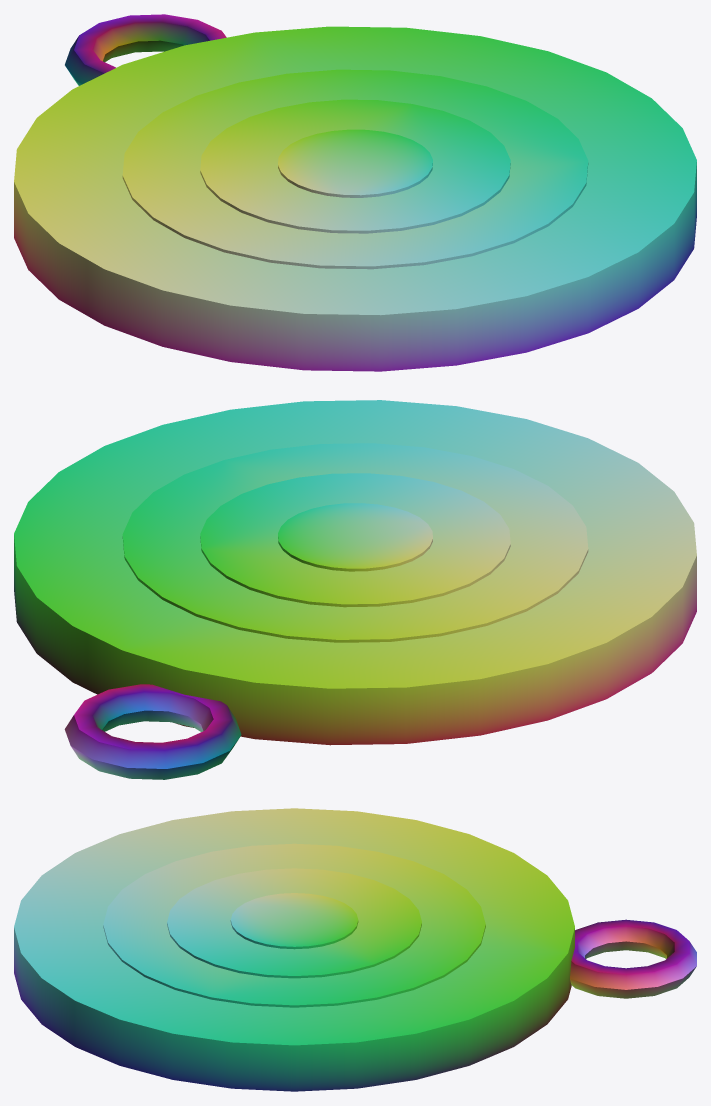
The model's file is nazar_charm.fbx.
The picture shows the model from 3 angles, top to bottom: view 1: azimuth 30°, elevation 25°; view 2: azimuth 150°, elevation 25°; view 3: azimuth 270°, elevation 25°; orthographic projection. The views are drawn at different scales.
Visible parts, largest first — view 1: nazar_charm; view 2: nazar_charm; view 3: nazar_charm.
Part boxes in pixels (left/top/right/bottom): nazar_charm: left=14, top=14, right=696, bottom=371; nazar_charm: left=14, top=400, right=696, bottom=779; nazar_charm: left=14, top=808, right=696, bottom=1091.
Bounding box in the file's own units: 0.44 × 0.052 × 0.5356.
